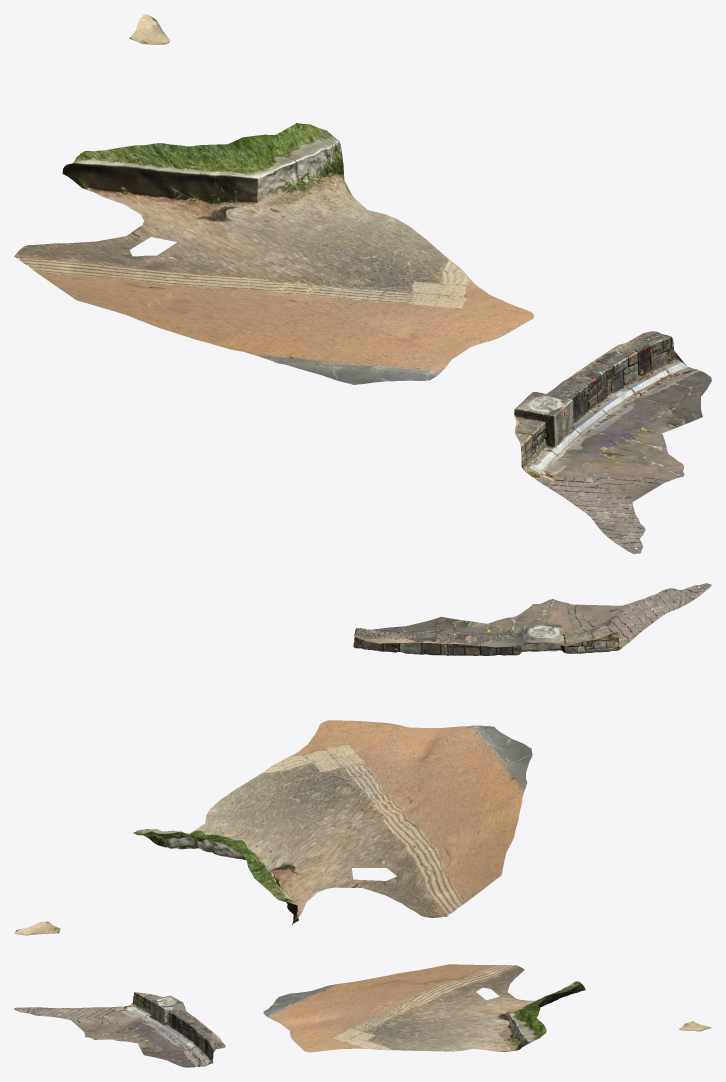
3 renders of one model, top to bottom at view 1: azimuth 30°, elevation 25°; view 2: azimuth 150°, elevation 25°; view 3: azimuth 270°, elevation 25°, orthographic. The views are drawn at different scales.
Visible parts, largest first — view 1: baked_mesh_18e1c08b; view 2: baked_mesh_18e1c08b; view 3: baked_mesh_18e1c08b.
Part boxes in pixels (left/top/right/bottom): baked_mesh_18e1c08b: left=14, top=14, right=711, bottom=554; baked_mesh_18e1c08b: left=14, top=583, right=711, bottom=935; baked_mesh_18e1c08b: left=14, top=964, right=711, bottom=1067.
Bounding box in the file's own units: 0.6084 × 0.0667 × 1.71.
1 material, 1 textured.
